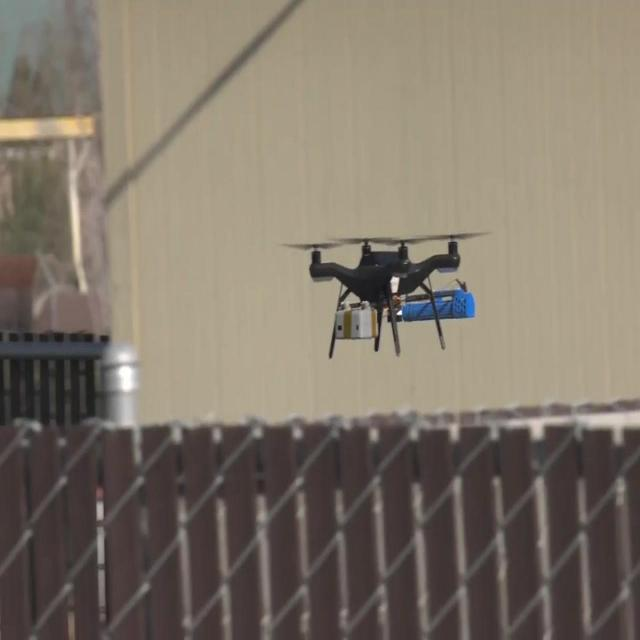UAV: (284, 233, 489, 359)
